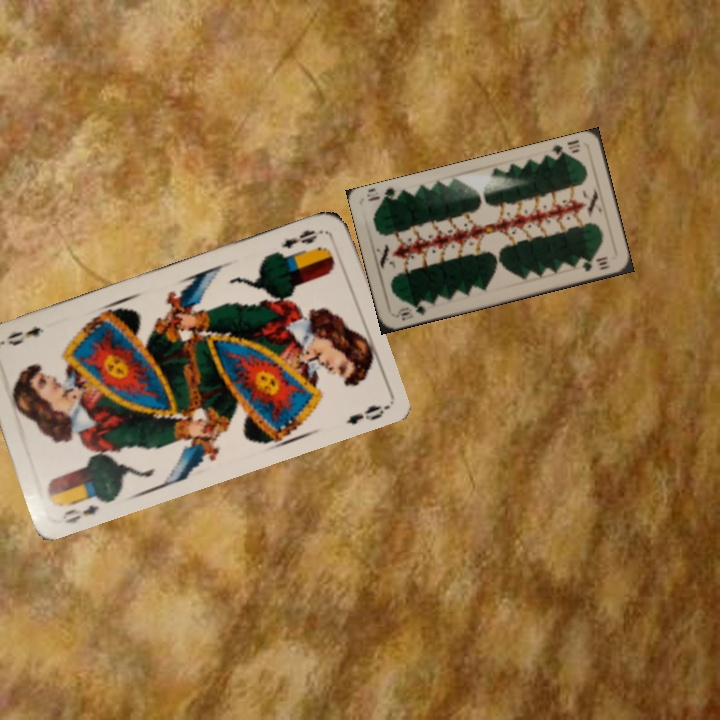EO: (277, 226, 320, 252), (58, 501, 101, 527)
G10: (547, 136, 583, 162), (392, 300, 428, 320)
